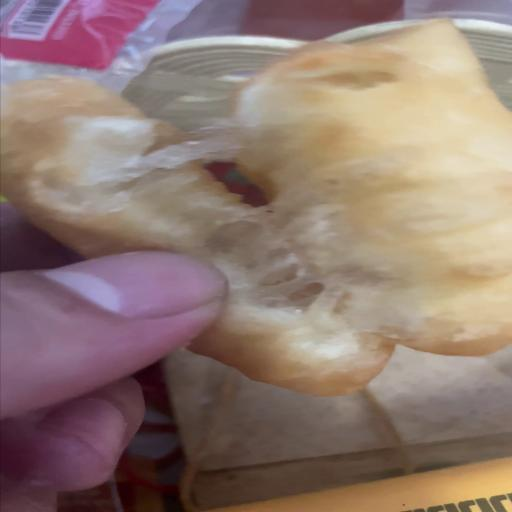street_golden_defect: (2, 41, 511, 399)
